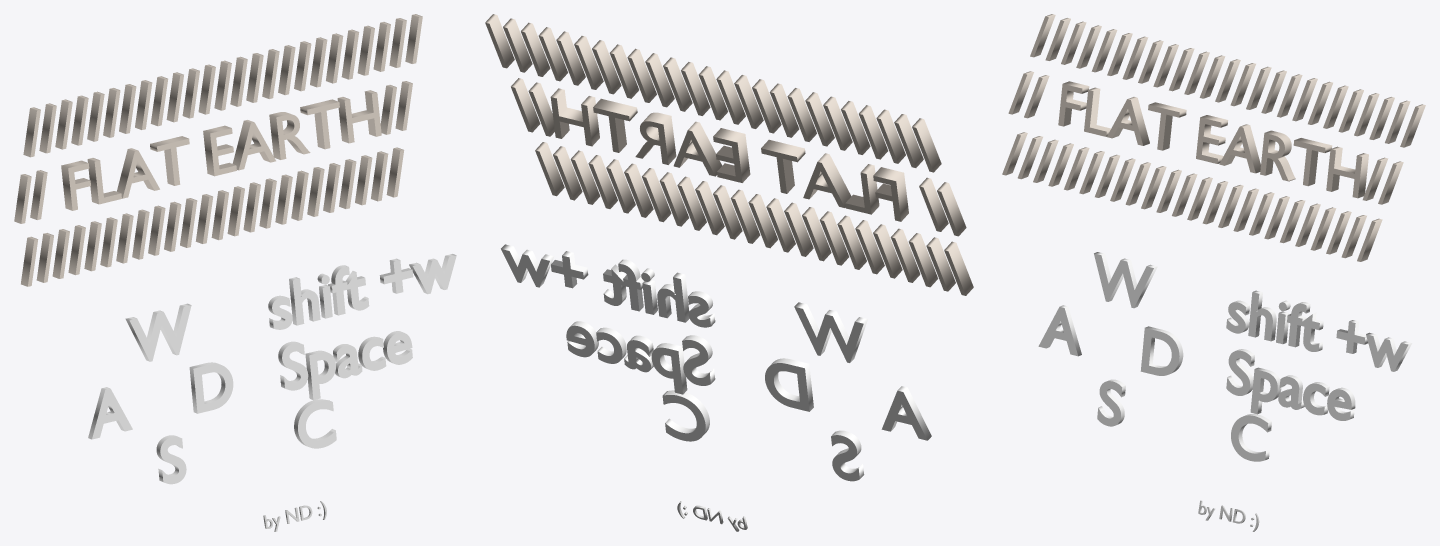
The picture shows the model from 3 angles, left to right: view 1: azimuth 30°, elevation 25°; view 2: azimuth 150°, elevation 25°; view 3: azimuth 330°, elevation 25°; orthographic projection. The views are drawn at different scales.
Parts seen in each view (by area): view 1: Text.001, Text; view 2: Text.001, Text; view 3: Text.001, Text.
Part boxes in pixels (x1,y1,x2,y2): Text.001: (14, 14, 422, 286); Text: (88, 254, 456, 484); Text.001: (485, 14, 973, 295); Text: (501, 244, 931, 481); Text.001: (1002, 14, 1425, 261); Text: (1038, 252, 1412, 461).
Size of the model in its own units: 7.49 by 7.5 by 1.34.
